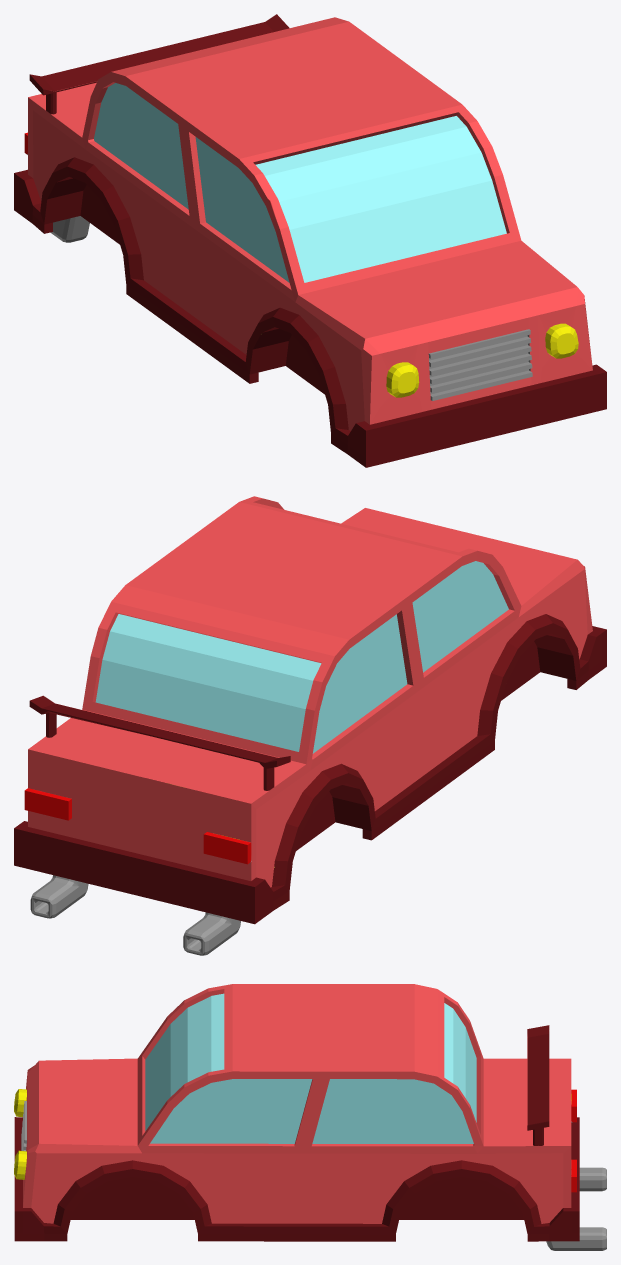
File: car.gltf
The picture shows the model from 3 angles, top to bottom: view 1: azimuth 30°, elevation 25°; view 2: azimuth 150°, elevation 25°; view 3: azimuth 270°, elevation 25°; orthographic projection. The views are drawn at different scales.
Parts seen in each view (by area): view 1: Car; view 2: Car; view 3: Car.
Part boxes in pixels (<box>): Car: <box>14,14,606,467</box>; Car: <box>14,496,606,955</box>; Car: <box>14,984,606,1250</box>.
Bounding box in the file's own units: 4.18 × 3.83 × 10.81.
1 material, 1 textured.
